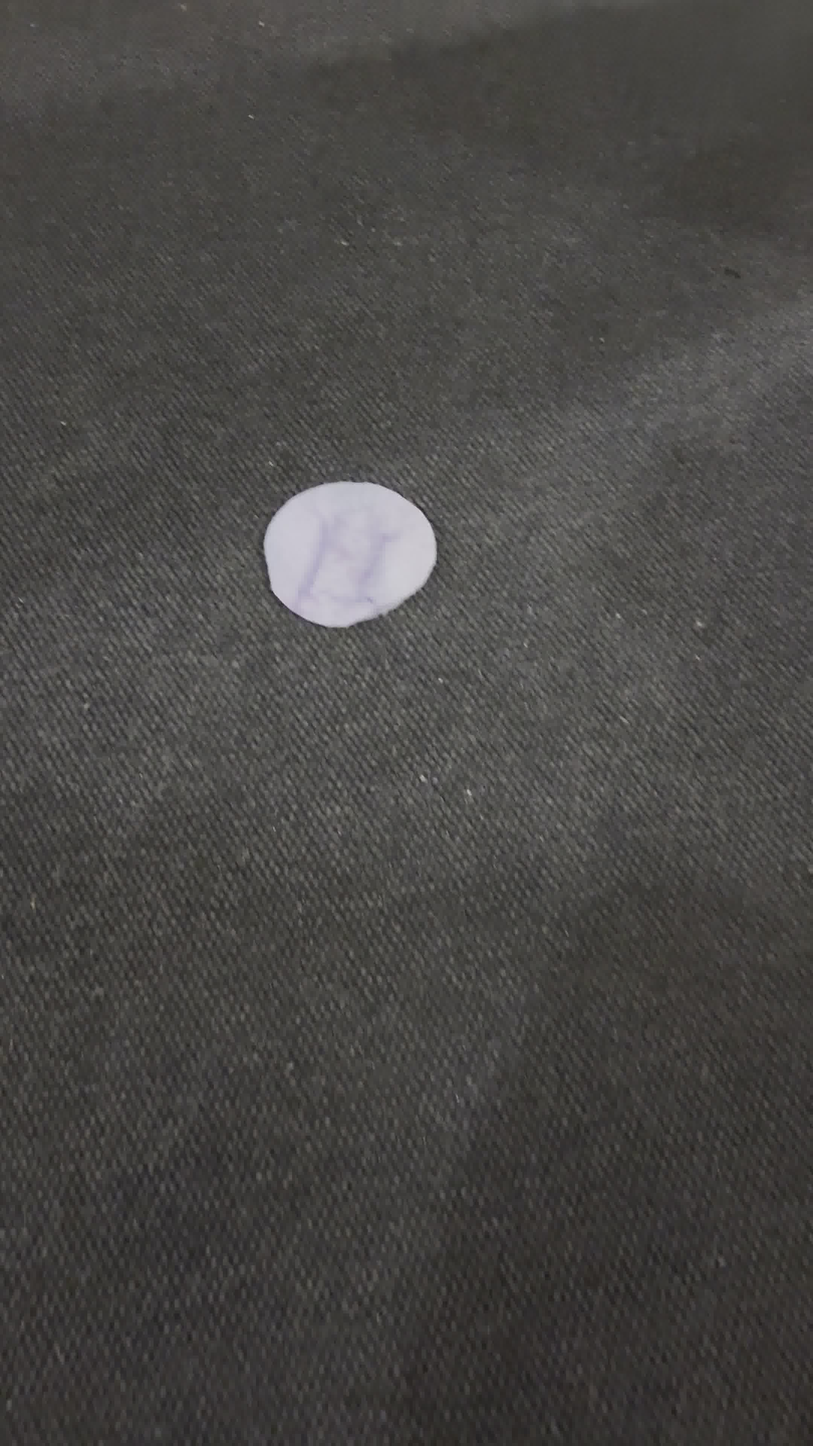Target: (266, 484, 435, 626)
